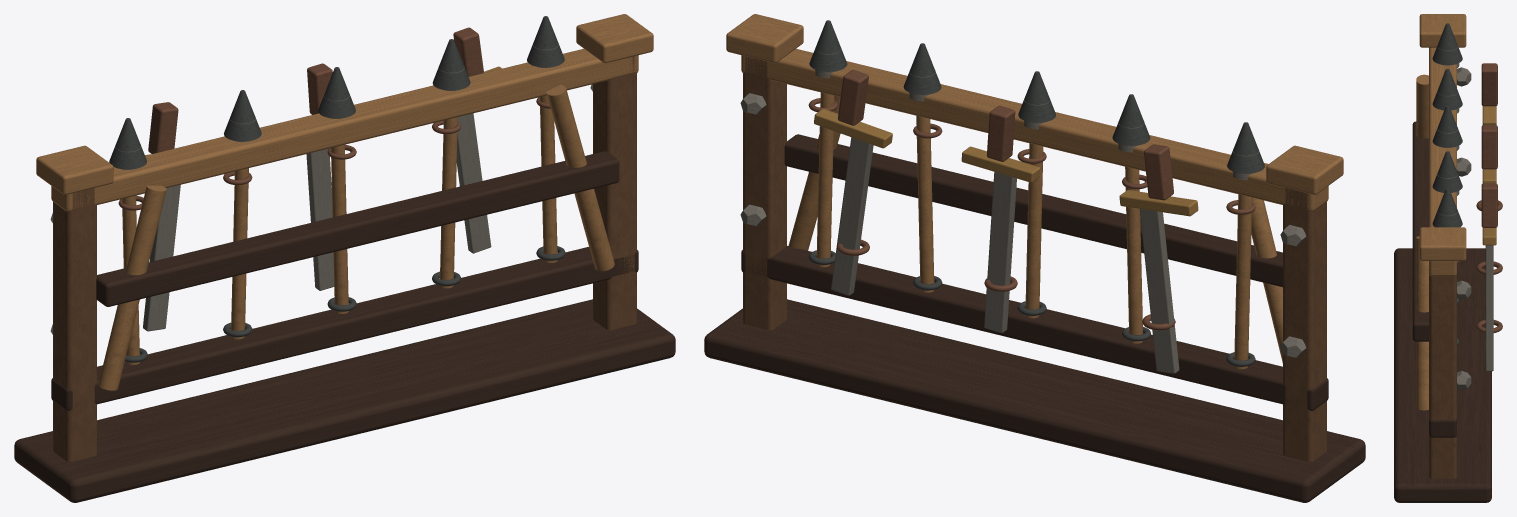
Rendered from weapon_rack.glb.
The picture shows the model from 3 angles, left to right: view 1: azimuth 30°, elevation 25°; view 2: azimuth 150°, elevation 25°; view 3: azimuth 270°, elevation 25°; orthographic projection. The views are drawn at different scales.
Parts seen in each view (by area): view 1: weapon_rack; view 2: weapon_rack; view 3: weapon_rack.
Part boxes in pixels (box(x1,y1,x2,y2)): weapon_rack: box(14, 14, 675, 502); weapon_rack: box(704, 14, 1365, 502); weapon_rack: box(1394, 14, 1502, 502).
Bounding box in the file's own units: 2.6 × 1.4 × 0.5.
1 material, 1 textured.
